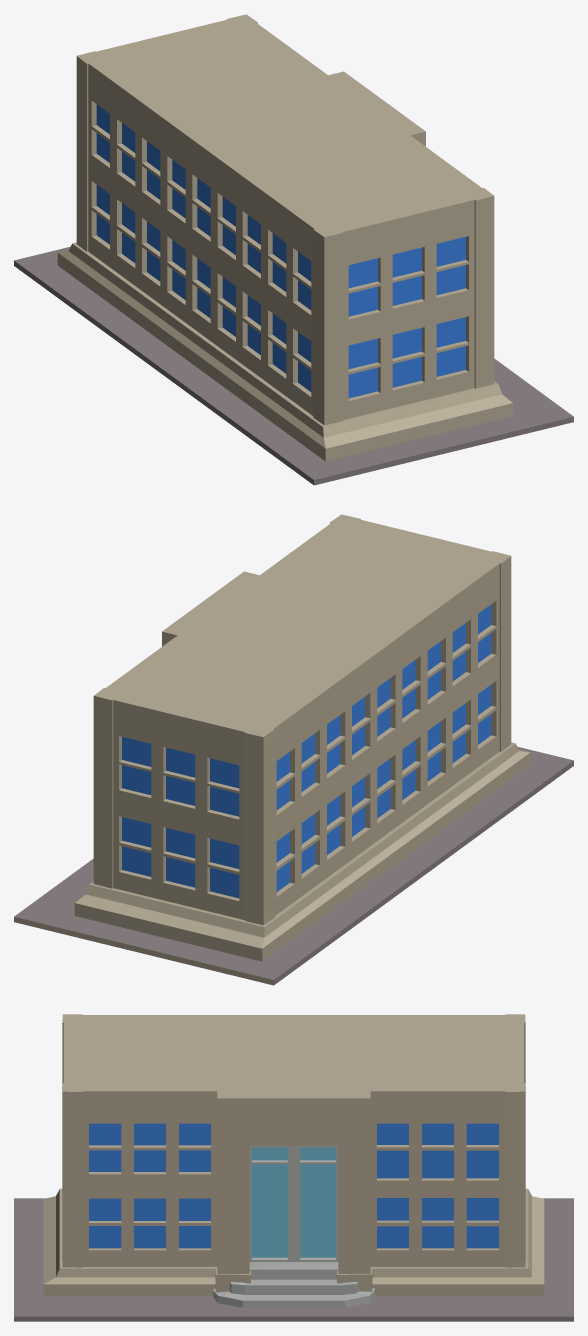
The model's file is building_1x2_3_g.glb.
The picture shows the model from 3 angles, top to bottom: view 1: azimuth 30°, elevation 25°; view 2: azimuth 150°, elevation 25°; view 3: azimuth 270°, elevation 25°; orthographic projection. The views are drawn at different scales.
Visible parts, largest first — view 1: FirstFloor; view 2: FirstFloor; view 3: FirstFloor.
Boxes of the visible parts, left/top/right/bottom form: FirstFloor: left=14, top=14, right=573, bottom=485; FirstFloor: left=14, top=514, right=573, bottom=985; FirstFloor: left=14, top=1014, right=573, bottom=1321.
Size of the model in its own units: 2 by 1.62 by 4.
